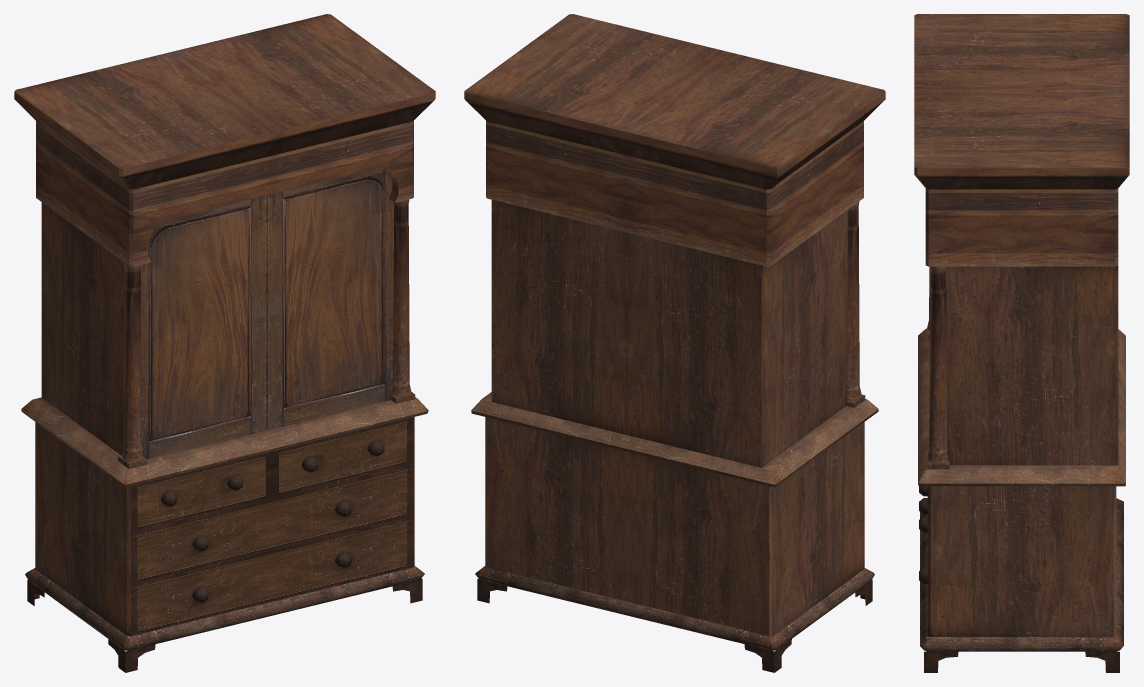
The picture shows the model from 3 angles, left to right: view 1: azimuth 30°, elevation 25°; view 2: azimuth 150°, elevation 25°; view 3: azimuth 270°, elevation 25°; orthographic projection.
Parts seen in each view (by area): view 1: LV_Common_Object_A_Furniture01_SM_NWC; view 2: LV_Common_Object_A_Furniture01_SM_NWC; view 3: LV_Common_Object_A_Furniture01_SM_NWC.
Part boxes in pixels (<box>): LV_Common_Object_A_Furniture01_SM_NWC: <box>14,14,435,672</box>; LV_Common_Object_A_Furniture01_SM_NWC: <box>464,14,885,672</box>; LV_Common_Object_A_Furniture01_SM_NWC: <box>914,14,1129,672</box>.
Size of the model in its own units: 0.3679 by 0.5659 by 0.2167.
1 material, 1 textured.
